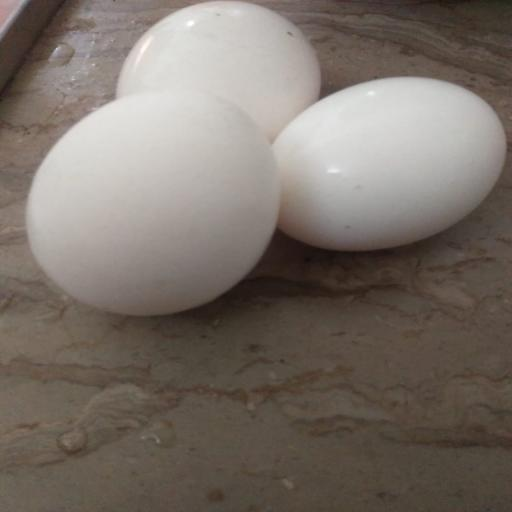telur: (21, 80, 284, 320), (270, 72, 511, 254), (112, 0, 324, 148)
